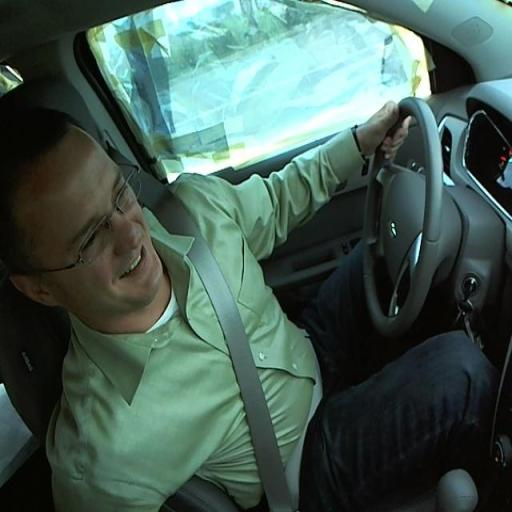turning: (8, 103, 465, 493)
